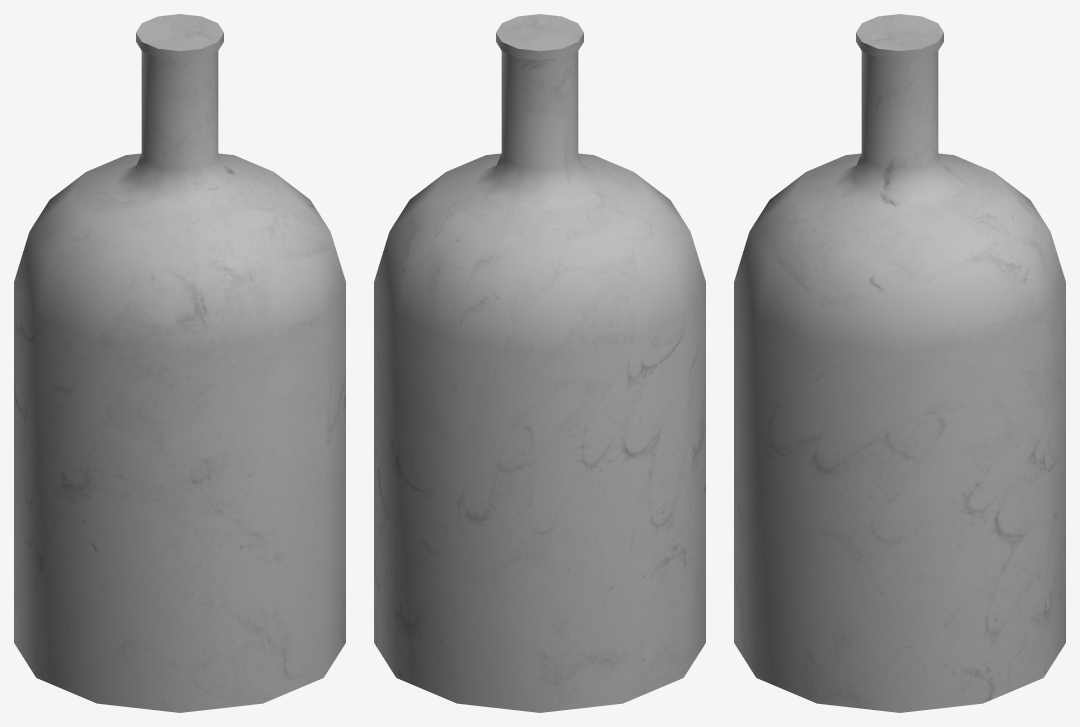
Rendered from Bottle.fbx.
3 renders of one model, left to right at view 1: azimuth 30°, elevation 25°; view 2: azimuth 150°, elevation 25°; view 3: azimuth 270°, elevation 25°, orthographic.
Visible parts, largest first — view 1: Bottle; view 2: Bottle; view 3: Bottle.
Boxes of the visible parts, bbox=[...] form: Bottle: bbox=[14, 14, 345, 712]; Bottle: bbox=[374, 14, 705, 712]; Bottle: bbox=[734, 14, 1065, 712].
Bounding box in the file's own units: 0.2275 × 0.4615 × 0.2275.
